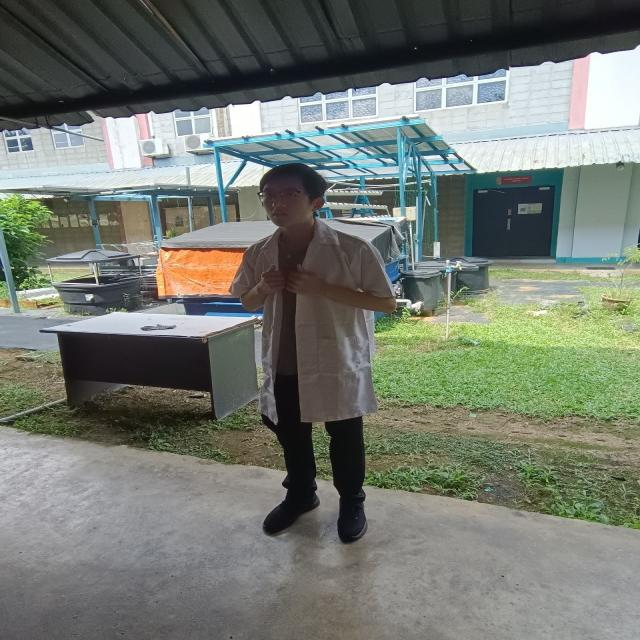person_with_labcoat: (231, 164, 395, 542)
